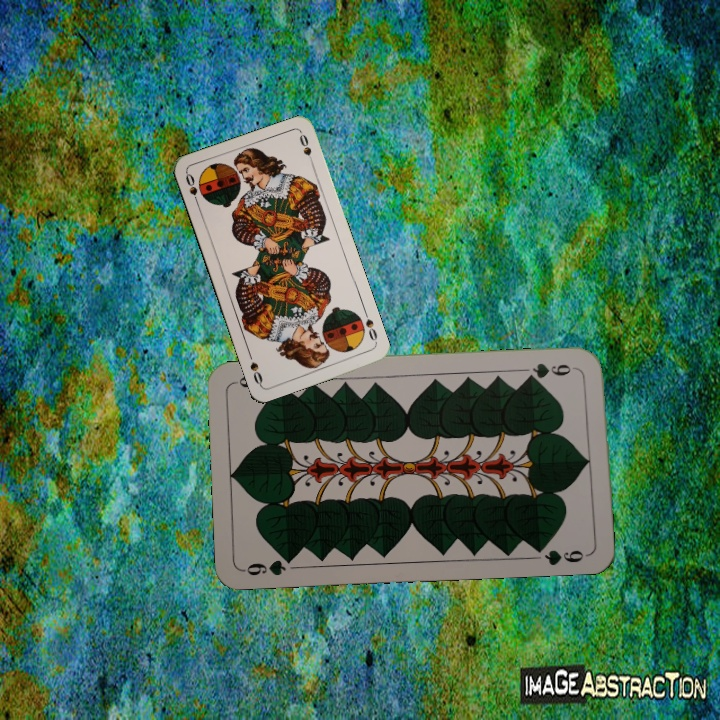G9: (240, 552, 298, 579), (522, 359, 580, 382)
SO: (182, 169, 202, 209), (360, 307, 380, 347)
